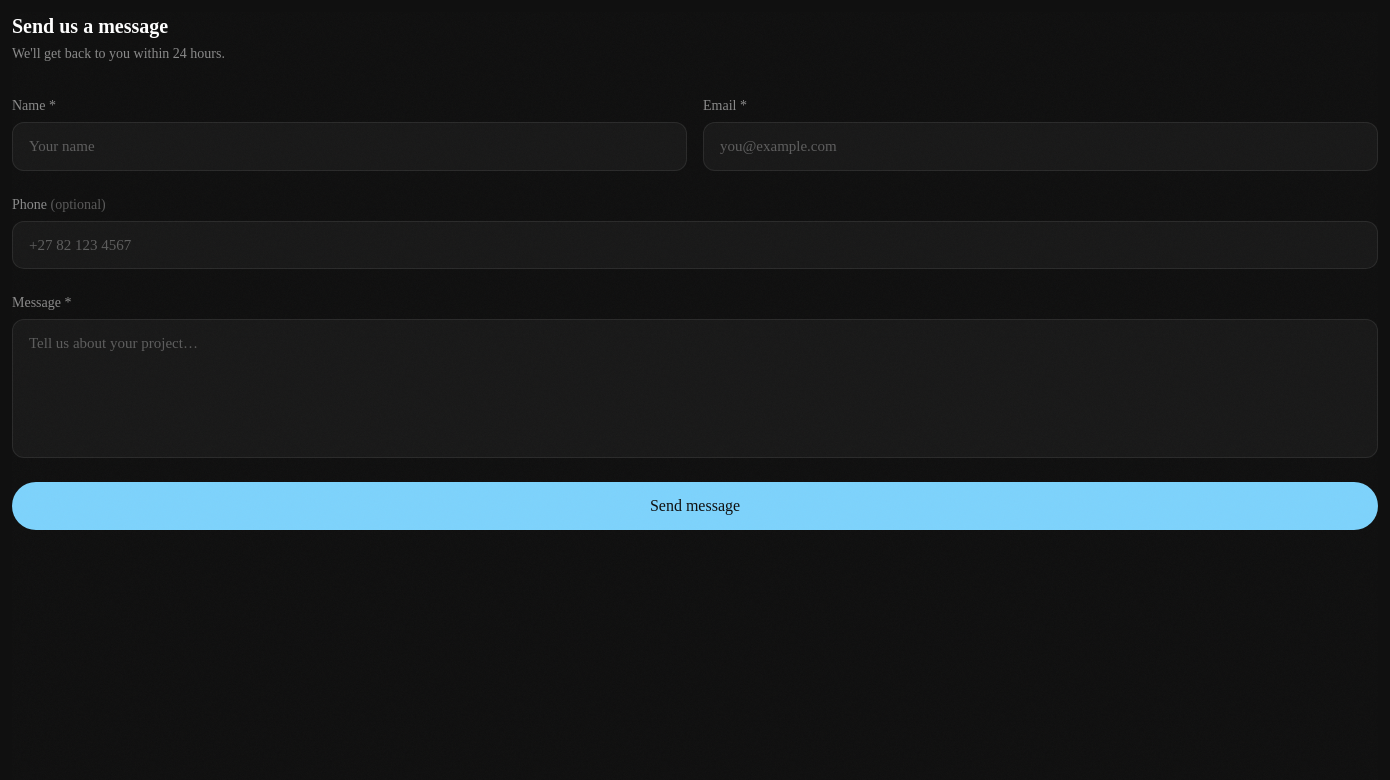
Test: ContactForm › shows inline errors for all missing required fields on submit
Click the button "Send message" at (695, 506), box [12,482,1378,530]
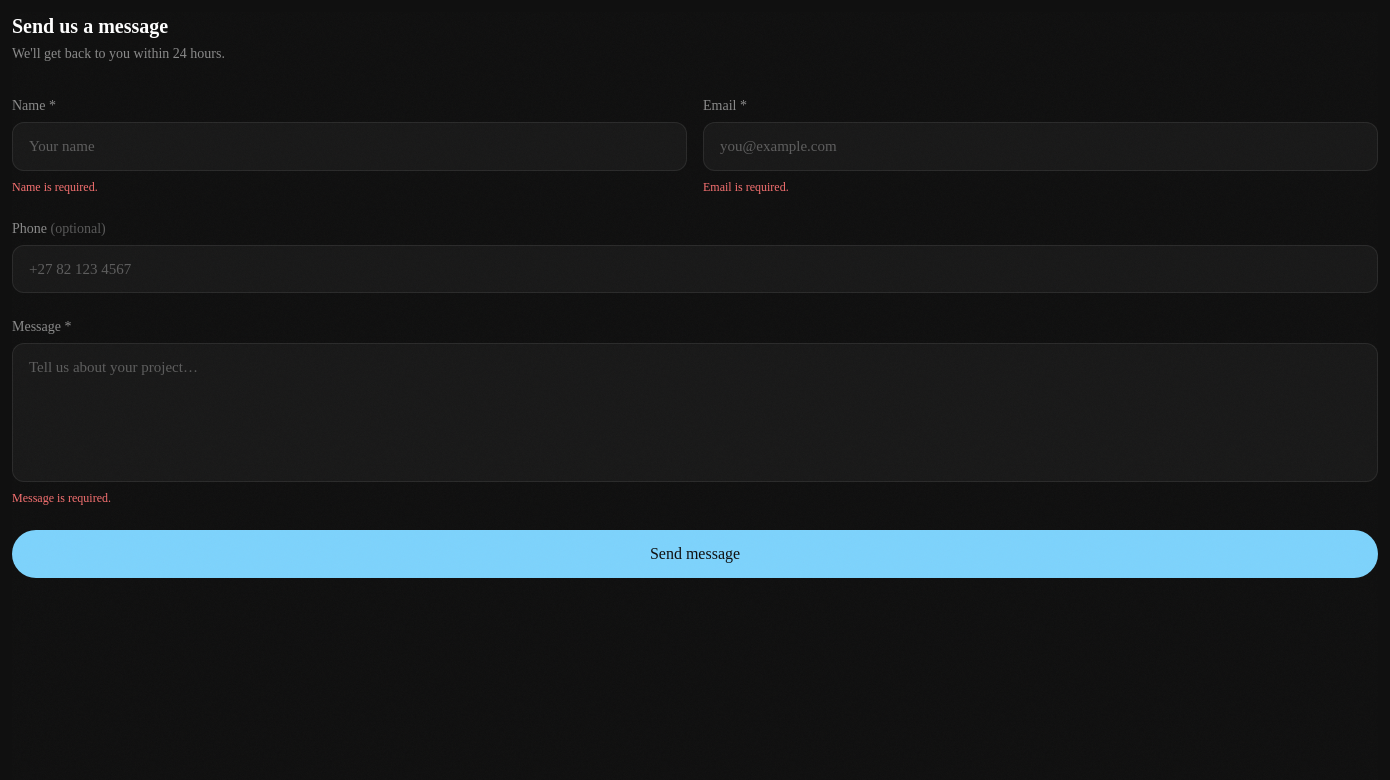
Expected: the number of messages is 3, [12,180,98,194]; [703,180,789,194]; [12,490,111,504]
Expected: the text "Name is required." is shown, [12,180,98,194]
Expected: the text "Email is required." is shown, [703,180,789,194]
